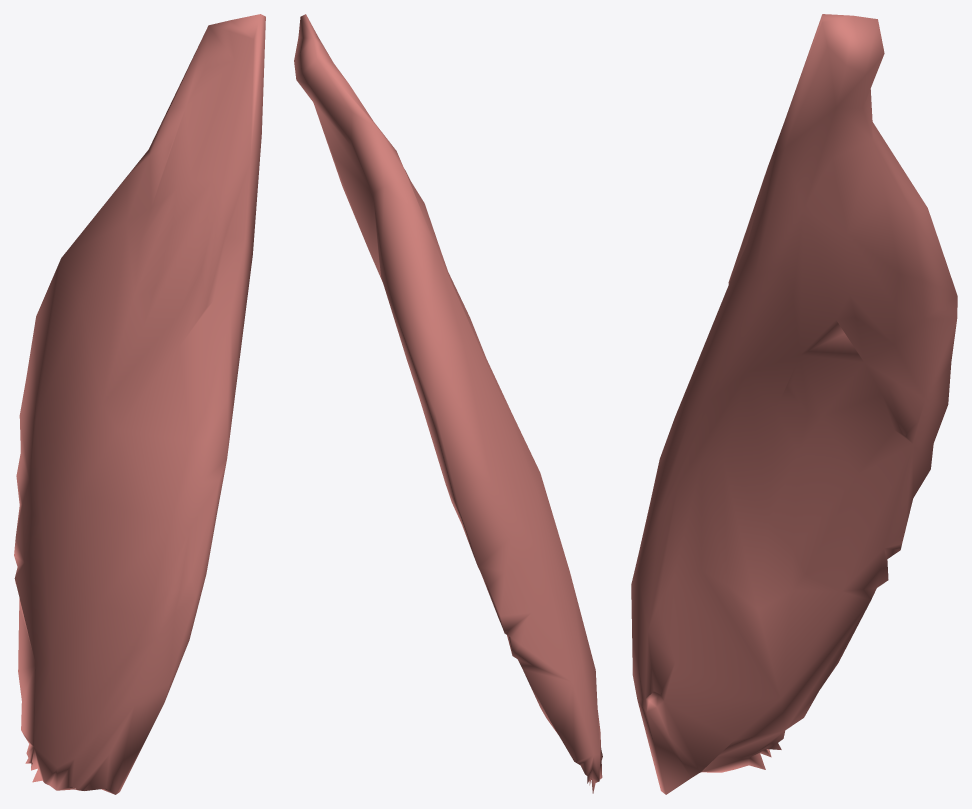
3 views of the same model, side by side, from view 1: azimuth 30°, elevation 25°; view 2: azimuth 150°, elevation 25°; view 3: azimuth 270°, elevation 25° (orthographic). The views are drawn at different scales.
Parts seen in each view (by area): view 1: ZA_93bd1f69230424f8; view 2: ZA_93bd1f69230424f8; view 3: ZA_93bd1f69230424f8.
Part boxes in pixels (x1=…): ZA_93bd1f69230424f8: x1=14, y1=14, x2=265, y2=794; ZA_93bd1f69230424f8: x1=294, y1=14, x2=602, y2=793; ZA_93bd1f69230424f8: x1=631, y1=14, x2=957, y2=794.
Bounding box in the file's own units: 0.0184 × 0.0477 × 0.0154.
